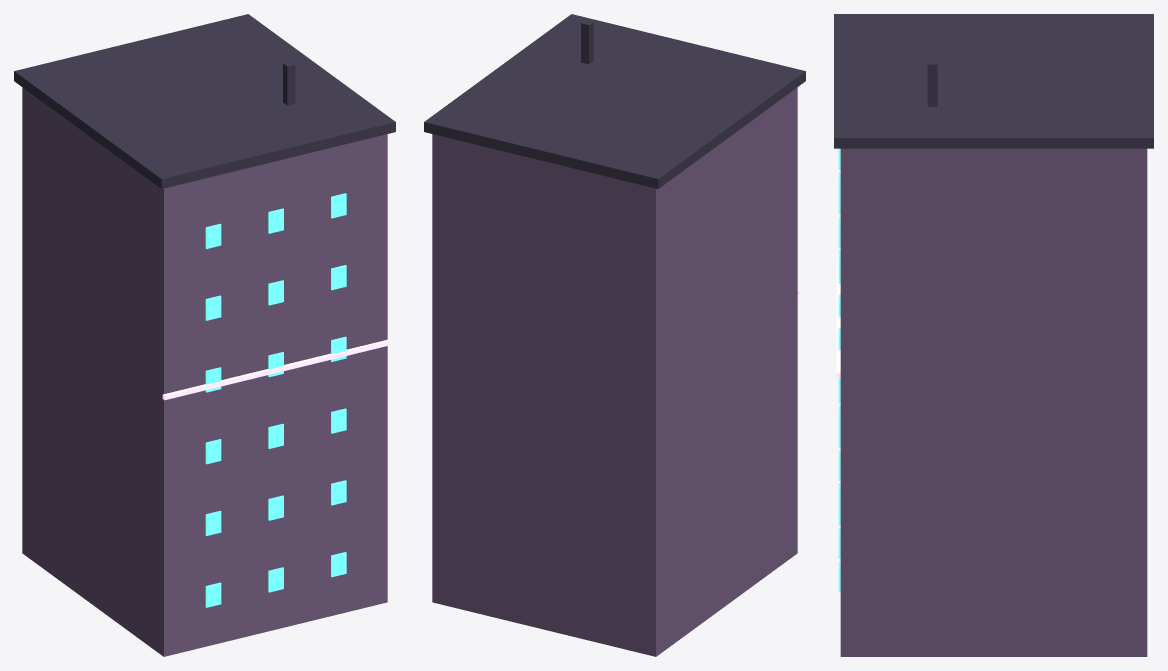
File: building_a.glb
The picture shows the model from 3 angles, left to right: view 1: azimuth 30°, elevation 25°; view 2: azimuth 150°, elevation 25°; view 3: azimuth 270°, elevation 25°; orthographic projection. The views are drawn at different scales.
Visible parts, largest first — view 1: building_a; view 2: building_a; view 3: building_a.
Boxes of the visible parts, bbox=[...] form: building_a: bbox=[14, 14, 395, 656]; building_a: bbox=[424, 14, 805, 656]; building_a: bbox=[834, 14, 1153, 656].
Size of the model in its own units: 4.4 by 9.35 by 4.8.
